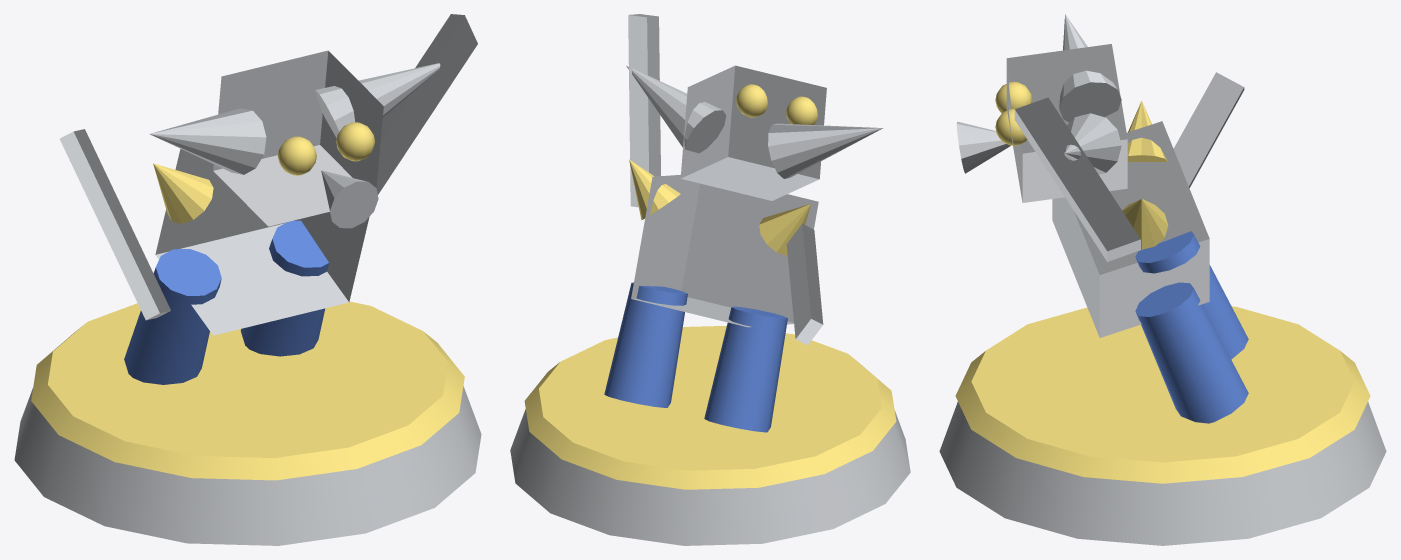
Rendered from goblin.glb.
3 renders of one model, left to right at view 1: azimuth 30°, elevation 25°; view 2: azimuth 150°, elevation 25°; view 3: azimuth 270°, elevation 25°, orthographic. The views are drawn at different scales.
Parts seen in each view (by area): view 1: goblin; view 2: goblin; view 3: goblin.
Part boxes in pixels (x1,y1,x2,y2): goblin: [14, 14, 481, 545]; goblin: [510, 14, 910, 545]; goblin: [939, 14, 1386, 545].
Bounding box in the file's own units: 0.84 × 0.871 × 0.84.
